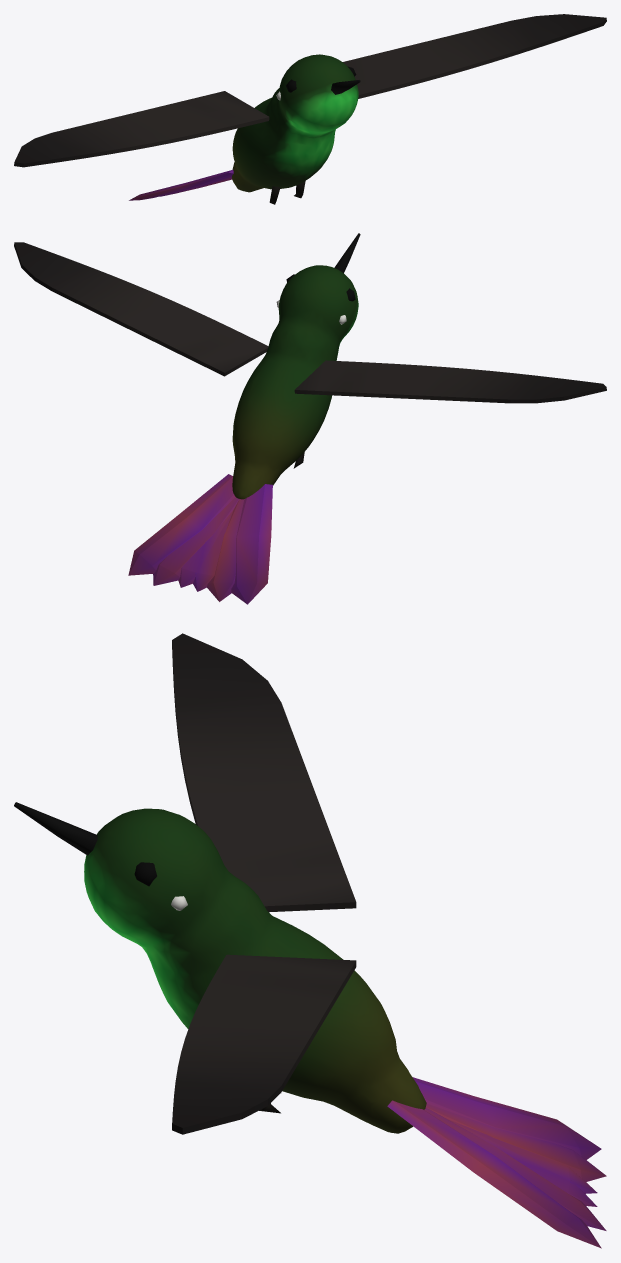
The model's file is TyrianMetaltail.fbx.
3 views of the same model, one above another, from view 1: azimuth 30°, elevation 25°; view 2: azimuth 150°, elevation 25°; view 3: azimuth 270°, elevation 25° (orthographic). The views are drawn at different scales.
Visible parts, largest first — view 1: TyrianMetaltail; view 2: TyrianMetaltail; view 3: TyrianMetaltail.
Part boxes in pixels (x1,y1,x2,y2): TyrianMetaltail: (14,14,606,204); TyrianMetaltail: (14,233,606,604); TyrianMetaltail: (14,633,606,1248).
Bounding box in the file's own units: 0.9865 × 0.3726 × 0.4992.
